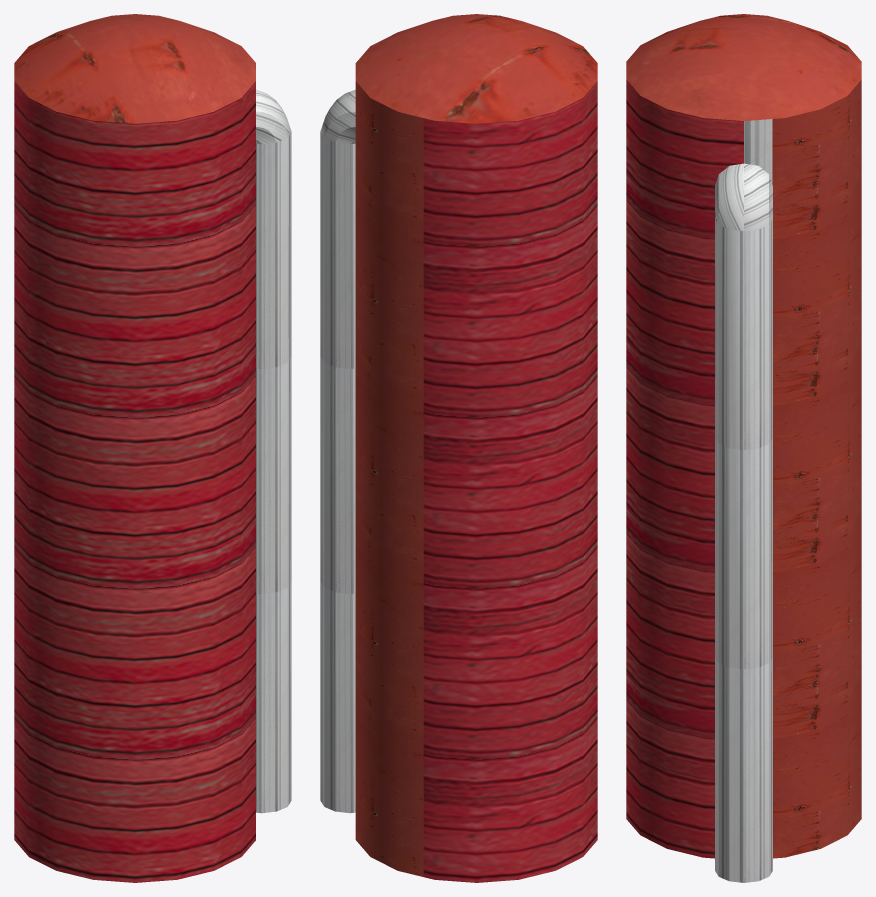
Rendered from SM_Cilo_01.fbx.
The picture shows the model from 3 angles, left to right: view 1: azimuth 30°, elevation 25°; view 2: azimuth 150°, elevation 25°; view 3: azimuth 270°, elevation 25°; orthographic projection. The views are drawn at different scales.
Parts seen in each view (by area): view 1: Cylinder, Cylinder.001; view 2: Cylinder, Cylinder.001; view 3: Cylinder, Cylinder.001.
Part boxes in pixels (x1=…): Cylinder: x1=14, y1=14, x2=255, y2=882; Cylinder.001: x1=256, y1=89, x2=291, y2=813; Cylinder: x1=355, y1=14, x2=597, y2=882; Cylinder.001: x1=320, y1=89, x2=355, y2=813; Cylinder: x1=626, y1=14, x2=861, y2=858; Cylinder.001: x1=715, y1=163, x2=772, y2=882.
Size of the model in its own units: 117 by 345 by 94.54.
